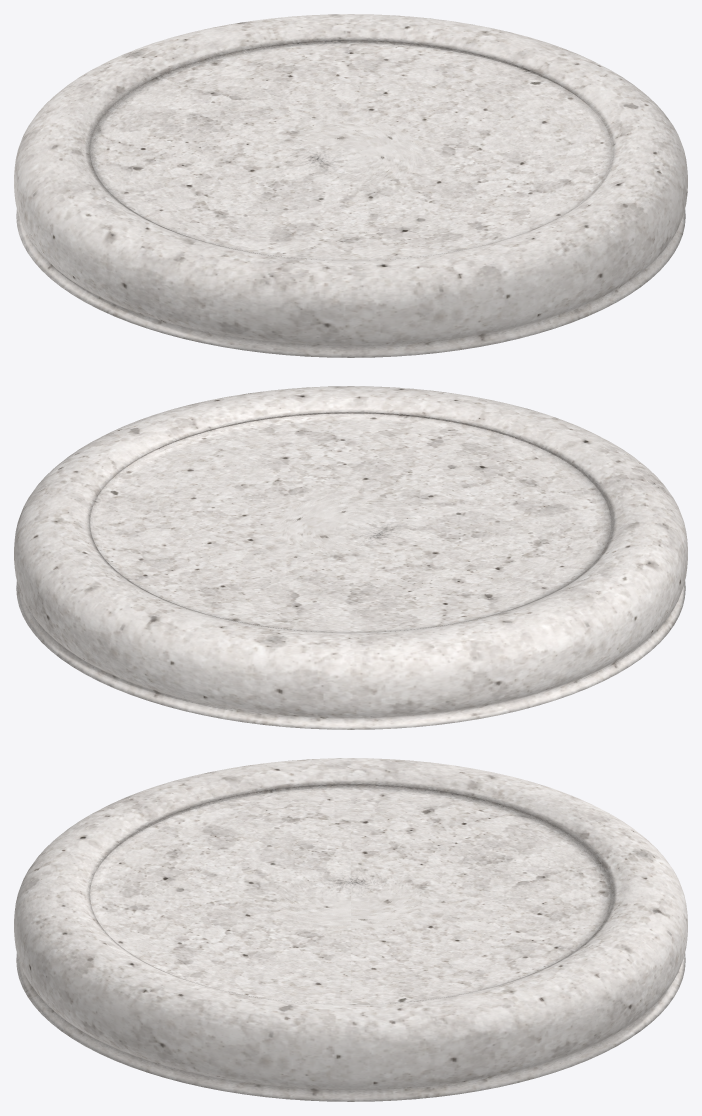
File: yinsh-marker-white.glb
3 renders of one model, top to bottom at view 1: azimuth 30°, elevation 25°; view 2: azimuth 150°, elevation 25°; view 3: azimuth 270°, elevation 25°, orthographic.
Parts seen in each view (by area): view 1: yinsh-marker-white; view 2: yinsh-marker-white; view 3: yinsh-marker-white.
Part boxes in pixels (x1,y1,x2,y2): yinsh-marker-white: (14, 14, 687, 357); yinsh-marker-white: (14, 386, 687, 729); yinsh-marker-white: (14, 758, 687, 1101).
Size of the model in its own units: 0.0207 by 0.00256 by 0.0207.
Materials: 1 (1 with a texture image).
